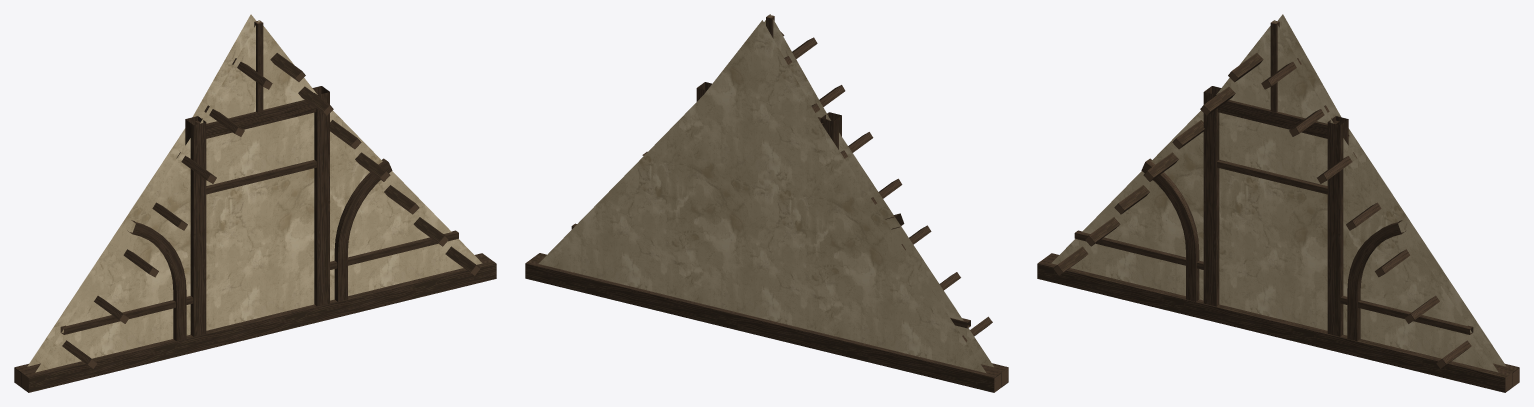
Rendered from Roof_Front_Brick8.gltf.
The picture shows the model from 3 angles, left to right: view 1: azimuth 30°, elevation 25°; view 2: azimuth 150°, elevation 25°; view 3: azimuth 330°, elevation 25°; orthographic projection.
Visible parts, largest first — view 1: Roof_Front_Brick8; view 2: Roof_Front_Brick8; view 3: Roof_Front_Brick8.
Boxes of the visible parts, x1,y1,x2,y2 form: Roof_Front_Brick8: (14,14,496,392); Roof_Front_Brick8: (525,14,1008,392); Roof_Front_Brick8: (1037,14,1519,392).
Bounding box in the file's own units: 8.51 × 5.45 × 1.13.
2 materials, 2 textured.
